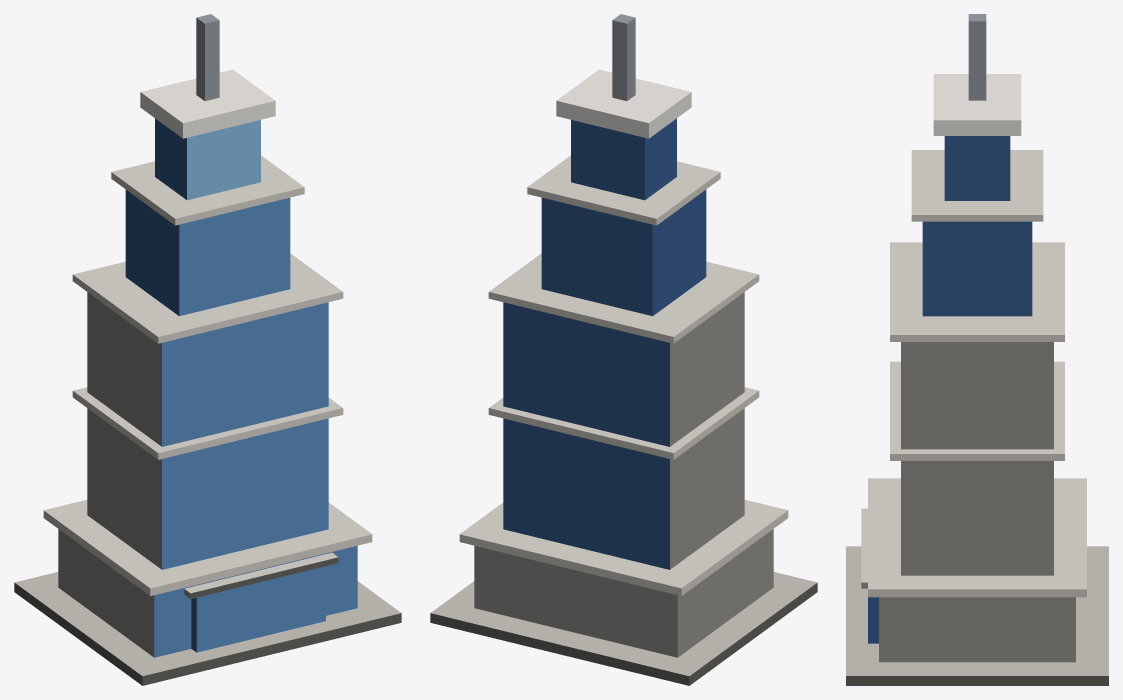
File: Skyscraper.fbx
3 views of the same model, side by side, from view 1: azimuth 30°, elevation 25°; view 2: azimuth 150°, elevation 25°; view 3: azimuth 270°, elevation 25° (orthographic). The views are drawn at different scales.
Parts seen in each view (by area): view 1: Skyscraper; view 2: Skyscraper; view 3: Skyscraper.
Part boxes in pixels (x1,y1,x2,y2): Skyscraper: (14,14,401,685); Skyscraper: (430,14,817,685); Skyscraper: (846,14,1108,685).
Bounding box in the file's own units: 1400 × 3040 × 1200.
